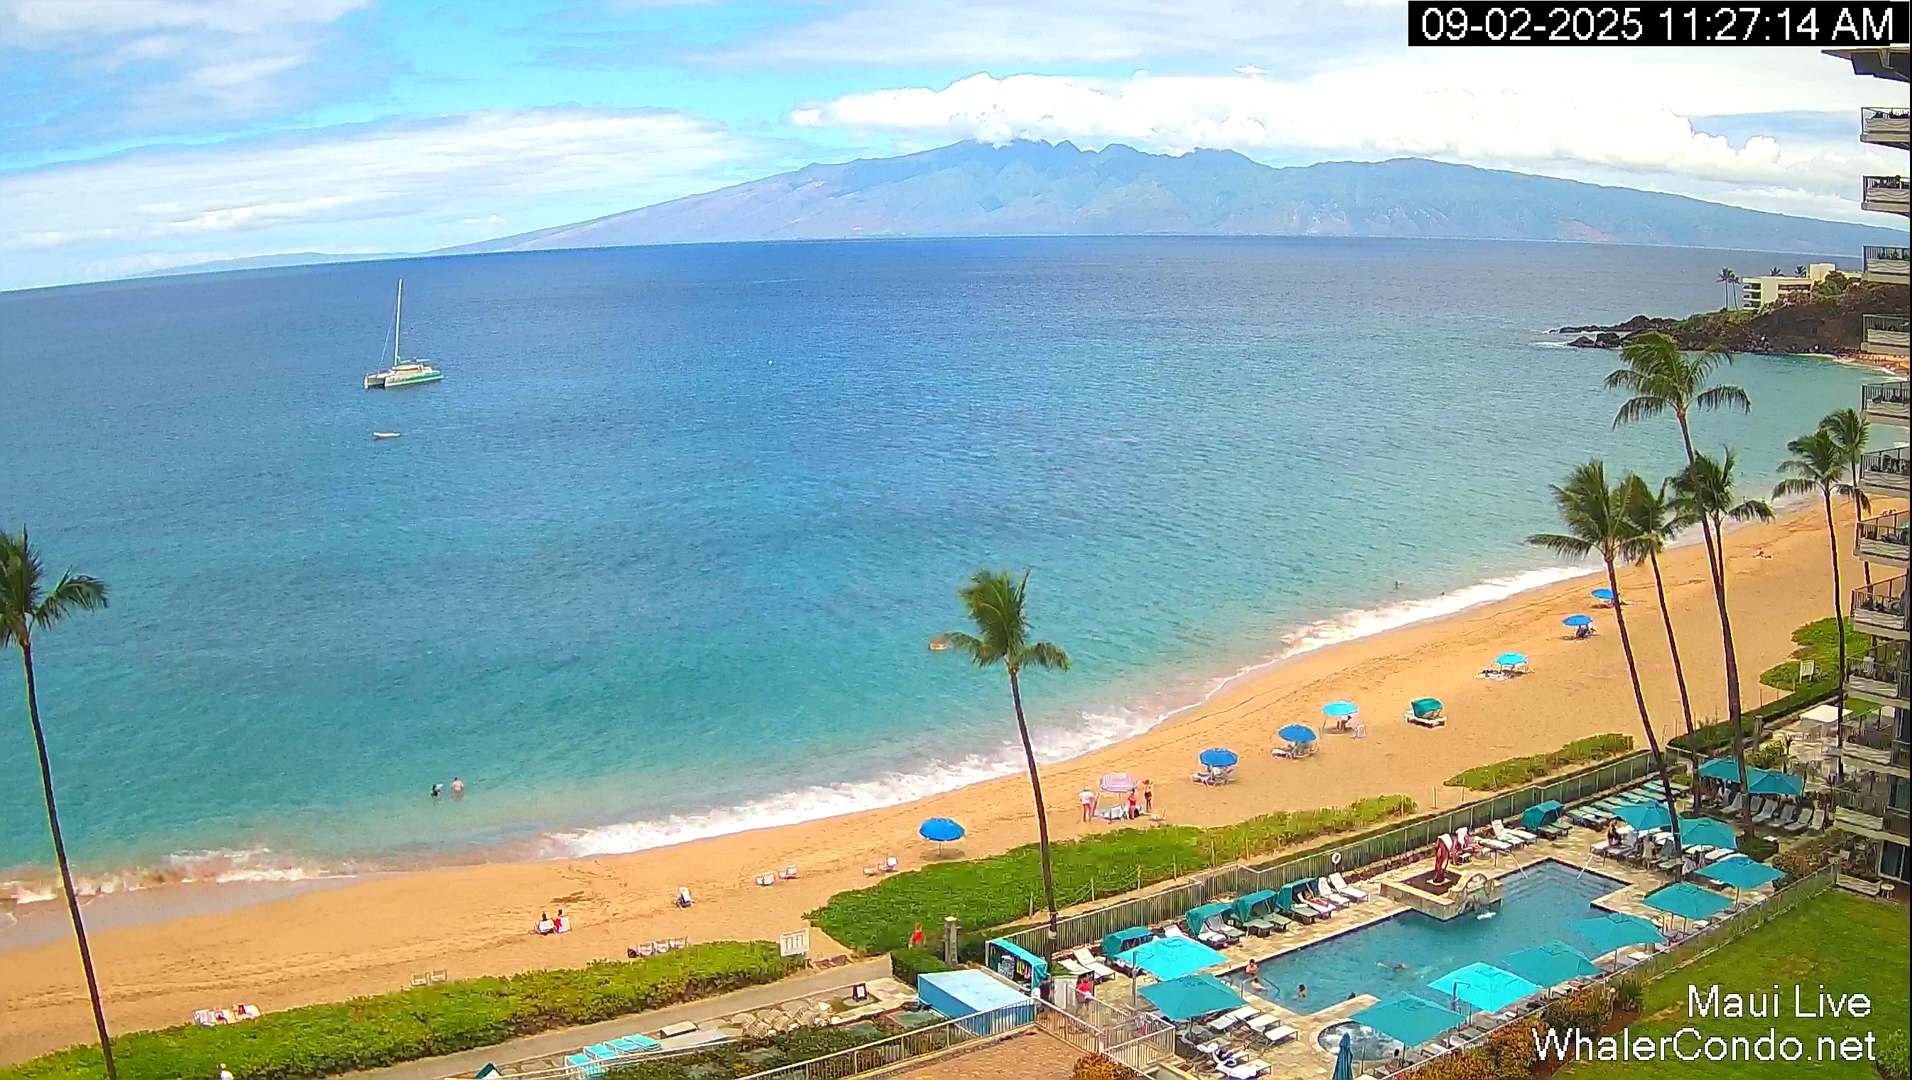boat: (363, 278, 444, 389), (477, 1032, 640, 1080), (372, 431, 401, 439)
person: (1078, 786, 1095, 824), (534, 912, 556, 935), (1076, 979, 1091, 1012), (1141, 779, 1152, 813), (555, 909, 570, 933), (451, 777, 464, 802), (1245, 958, 1259, 980), (911, 923, 924, 946), (1127, 791, 1137, 820), (430, 783, 443, 805), (1144, 788, 1153, 812), (1296, 984, 1307, 999), (1575, 625, 1584, 639), (1347, 992, 1356, 1000)
